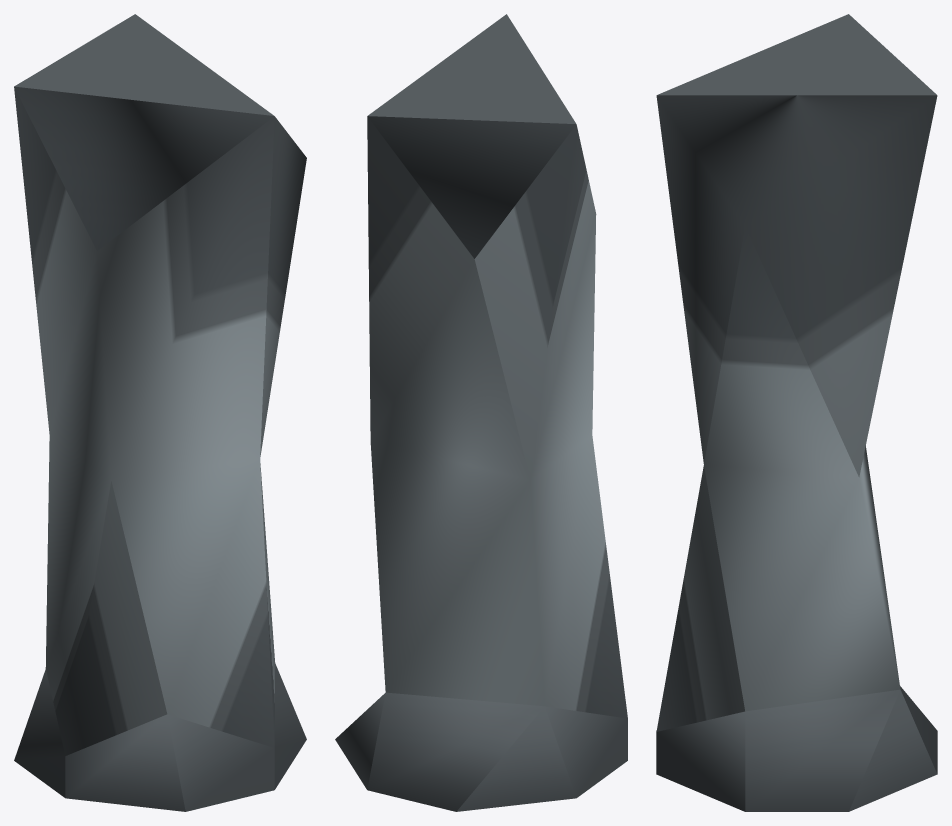
Rendered from pillar-small.glb.
3 views of the same model, side by side, from view 1: azimuth 30°, elevation 25°; view 2: azimuth 150°, elevation 25°; view 3: azimuth 270°, elevation 25° (orthographic).
Parts seen in each view (by area): view 1: pillar; view 2: pillar; view 3: pillar.
Part boxes in pixels (x1,y1,x2,y2): pillar: (14, 14, 306, 811); pillar: (335, 14, 627, 811); pillar: (656, 14, 937, 811).
Bounding box in the file's own units: 1.5 × 4 × 1.5.
Materials: 1 (1 with a texture image).
